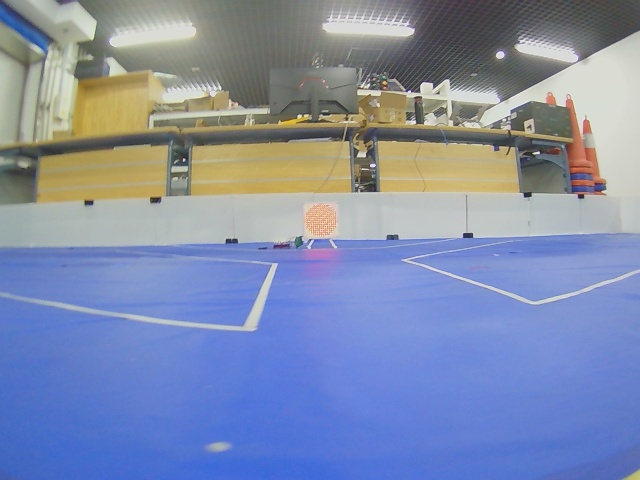red: (303, 203, 339, 239)
